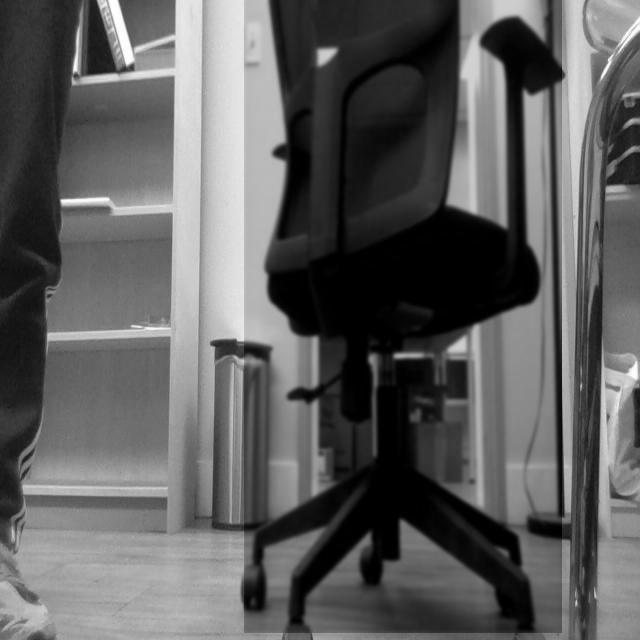chair: (234, 0, 563, 640)
